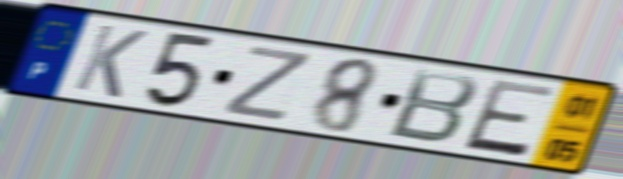5: (138, 29, 223, 111)
8: (306, 56, 382, 134)
B: (384, 65, 484, 147)
E: (458, 77, 561, 161)
K: (69, 21, 152, 102)
Z: (218, 43, 318, 125)
